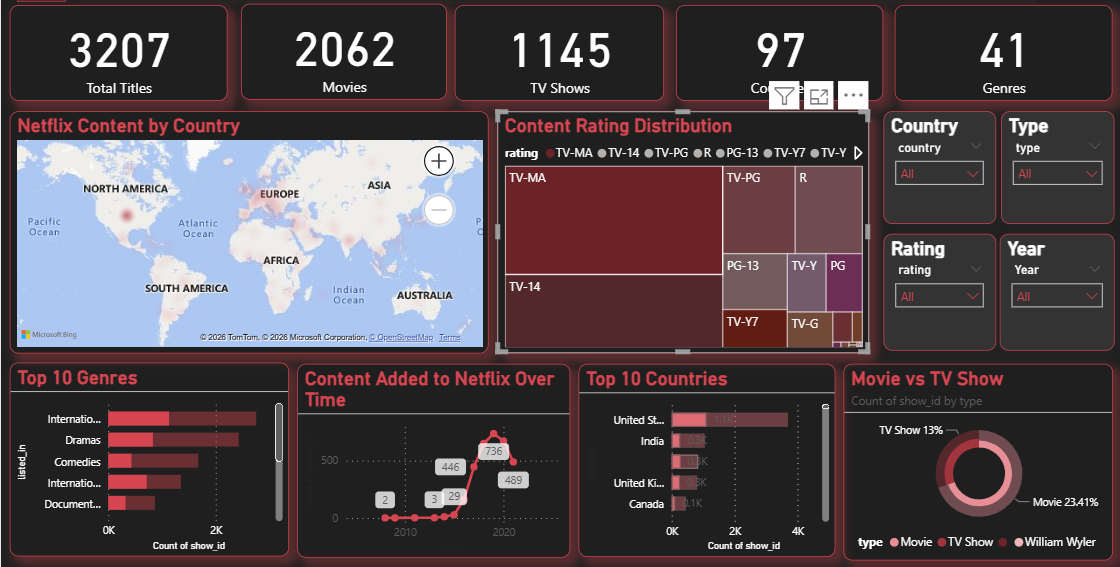

The page's visual inventory and layout, read from the dashboard file:
{"tool":"powerbi","page":{"name":"Page 1","canvas":[1280,720],"ordinal":0},"visuals":[{"type":"textbox","box":[90.6,0,1093.7,67.6],"z":0},{"type":"card","fields":{"Values":["netflix_titles.Total Titles"]},"box":[9.5,68.9,248.8,109.5],"z":1000},{"type":"card","fields":{"Values":["netflix_titles.Movies"]},"box":[274.4,67.6,235.2,109.5],"z":2000},{"type":"card","fields":{"Values":["netflix_titles.TV Shows"]},"box":[519.1,68.9,239.3,109.5],"z":3000},{"type":"card","fields":{"Values":["netflix_titles.Countries"]},"box":[772,68.9,236.6,109.5],"z":4000},{"type":"card","fields":{"Values":["netflix_titles.Genres"]},"box":[1022.1,68.9,248.8,109.5],"z":5000},{"type":"donutChart","title":"Movie vs TV Show","fields":{"Category":["netflix_titles.type"],"Y":["Count(netflix_titles.show_id)"]},"box":[962.6,478.6,308.2,224.4],"z":6000},{"type":"clusteredBarChart","title":"Top 10 Genres","fields":{"Category":["netflix_titles.listed_in"],"Y":["Count(netflix_titles.show_id)"]},"box":[9.5,477.2,319.1,221.7],"z":7000},{"type":"map","title":"Netflix Content by Country","fields":{"Size":["CountNonNull(netflix_titles.show_id)"],"Category":["netflix_titles.country"]},"box":[9.5,190.6,547.5,277.1],"z":8000},{"type":"lineChart","title":"Content Added to Netflix Over Time","fields":{"Category":["netflix_titles.Year"],"Y":["Count(netflix_titles.show_id)"]},"box":[338,478.6,312.3,221.7],"z":9000},{"type":"clusteredBarChart","title":"Top 10 Countries","fields":{"Category":["netflix_titles.country"],"Y":["Count(netflix_titles.show_id)"]},"box":[660,478.9,293.7,220.9],"z":10000},{"type":"treemap","title":"Content Rating Distribution","fields":{"Group":["netflix_titles.rating"],"Values":["Count(netflix_titles.show_id)"]},"box":[567.8,190.6,424.5,277.1],"z":11000},{"type":"slicer","title":"Country","fields":{"Values":["netflix_titles.country"]},"box":[1008.5,190.6,128.4,128.4],"z":12000},{"type":"slicer","title":"Type","fields":{"Values":["netflix_titles.type"]},"box":[1142.4,190.6,129.8,128.4],"z":13000},{"type":"slicer","title":"Rating","fields":{"Values":["netflix_titles.rating"]},"box":[1008.5,329.9,128.4,133.8],"z":14000},{"type":"slicer","title":"Year","fields":{"Values":["netflix_titles.Year"]},"box":[1141,329.9,131.1,133.8],"z":15000},{"type":"image","box":[18.9,1.4,55.4,63.5],"z":15001}]}

Visuals, with their boxes on the page's 1280x720 design canvas (x1, y1, x2, y2). These are canvas units, not pixel positions in the 1120x567 screenshot, which may show the page scaled, cropped or inside an application window:
textbox: detection(91, 0, 1184, 68)
card - netflix_titles.Total Titles: detection(10, 69, 258, 178)
card - netflix_titles.Movies: detection(274, 68, 510, 177)
card - netflix_titles.TV Shows: detection(519, 69, 758, 178)
card - netflix_titles.Countries: detection(772, 69, 1009, 178)
card - netflix_titles.Genres: detection(1022, 69, 1271, 178)
"Movie vs TV Show" donutChart: detection(963, 479, 1271, 703)
"Top 10 Genres" clusteredBarChart: detection(10, 477, 329, 699)
"Netflix Content by Country" map: detection(10, 191, 557, 468)
"Content Added to Netflix Over Time" lineChart: detection(338, 479, 650, 700)
"Top 10 Countries" clusteredBarChart: detection(660, 479, 954, 700)
"Content Rating Distribution" treemap: detection(568, 191, 992, 468)
"Country" slicer: detection(1008, 191, 1137, 319)
"Type" slicer: detection(1142, 191, 1272, 319)
"Rating" slicer: detection(1008, 330, 1137, 464)
"Year" slicer: detection(1141, 330, 1272, 464)
image: detection(19, 1, 74, 65)
